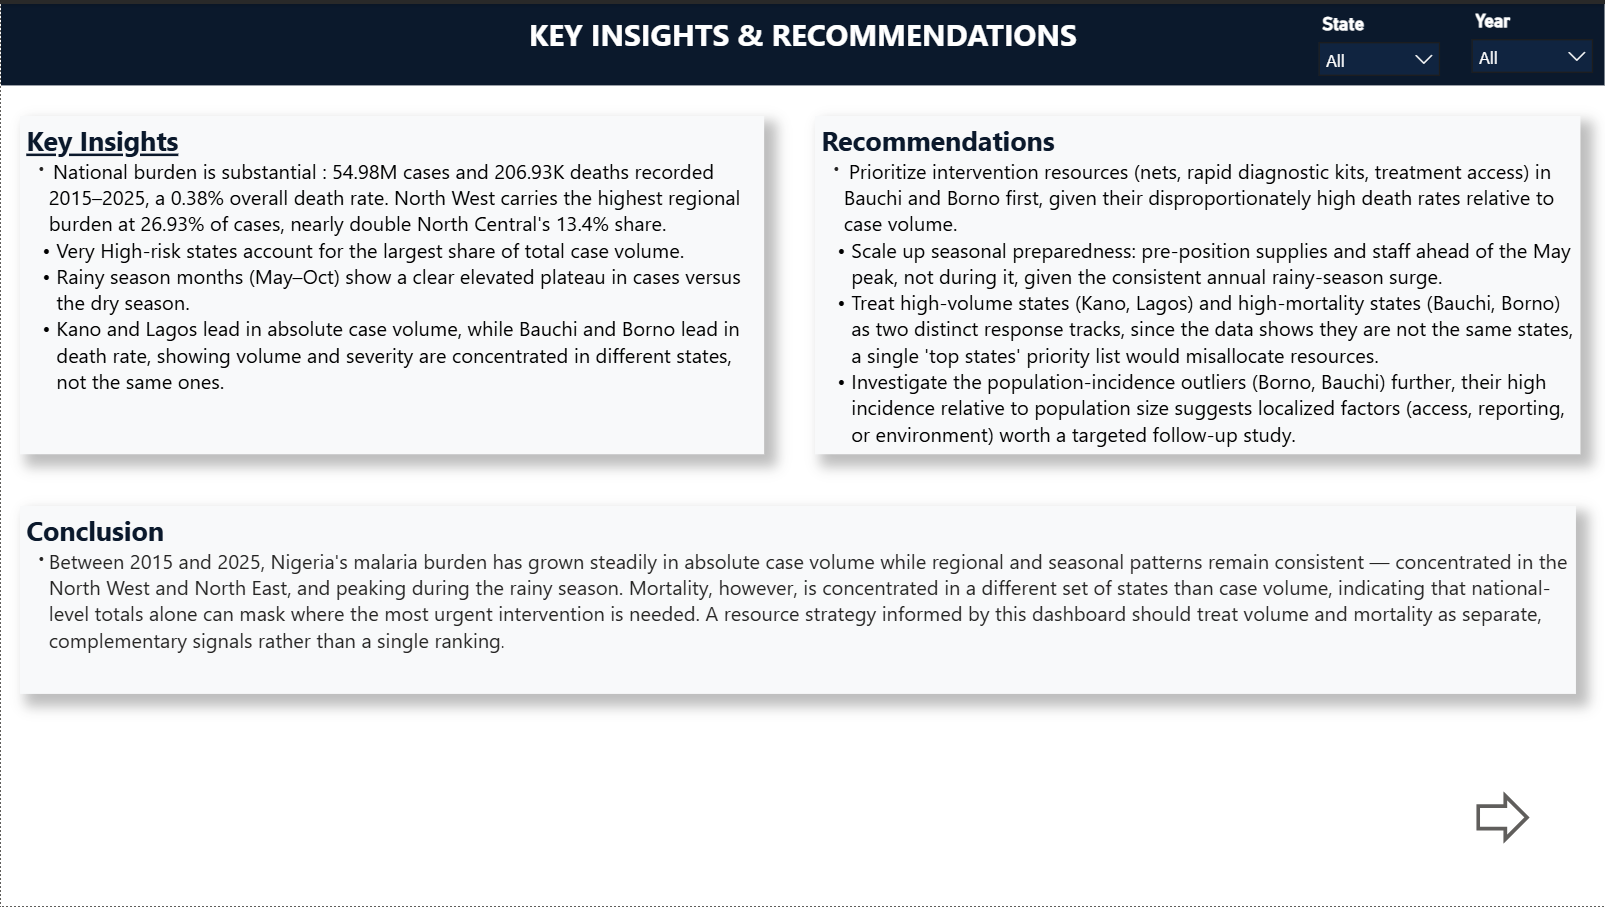

What the dashboard file says about the page in this screenshot:
{"tool":"powerbi","page":{"name":"Key Insights","canvas":[1280,720],"ordinal":3},"visuals":[{"type":"shape","box":[0,0,1280,65],"z":0},{"type":"textbox","box":[0,2,1280,65],"z":1000},{"type":"slicer","fields":{"Values":["Dim_State.State"]},"box":[1041.9,2.3,116.5,62.7],"z":2000},{"type":"slicer","fields":{"Values":["Dim_Calendar.Year"]},"box":[1163.5,0,116.5,62.7],"z":3000},{"type":"textbox","box":[15.4,89.8,594.3,270.2],"z":4000},{"type":"textbox","box":[649.9,89.8,610.5,270.2],"z":5000},{"type":"textbox","box":[15.4,401,1242.5,149.6],"z":6000},{"type":"actionButton","box":[1176.9,627.7,44.6,43.8],"z":7000}]}

Visuals, with their boxes in screenshot pixels (x1, y1, x2, y2), scaled from the page's 1280x720 canvas onto the 1605x907 screenshot:
shape: <box>0,0,1604,82</box>
textbox: <box>0,3,1604,84</box>
slicer - Dim_State.State: <box>1306,3,1453,82</box>
slicer - Dim_Calendar.Year: <box>1459,0,1604,79</box>
textbox: <box>19,113,765,454</box>
textbox: <box>815,113,1580,454</box>
textbox: <box>19,505,1577,694</box>
actionButton: <box>1476,791,1532,846</box>
